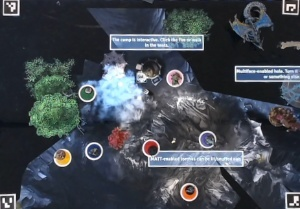blue: (82, 140, 104, 161)
green: (75, 84, 100, 104)
orange: (176, 180, 201, 202)
pink: (161, 66, 185, 89)
red: (142, 137, 161, 158)
violet: (197, 128, 217, 149)
yellow: (53, 146, 72, 167)
